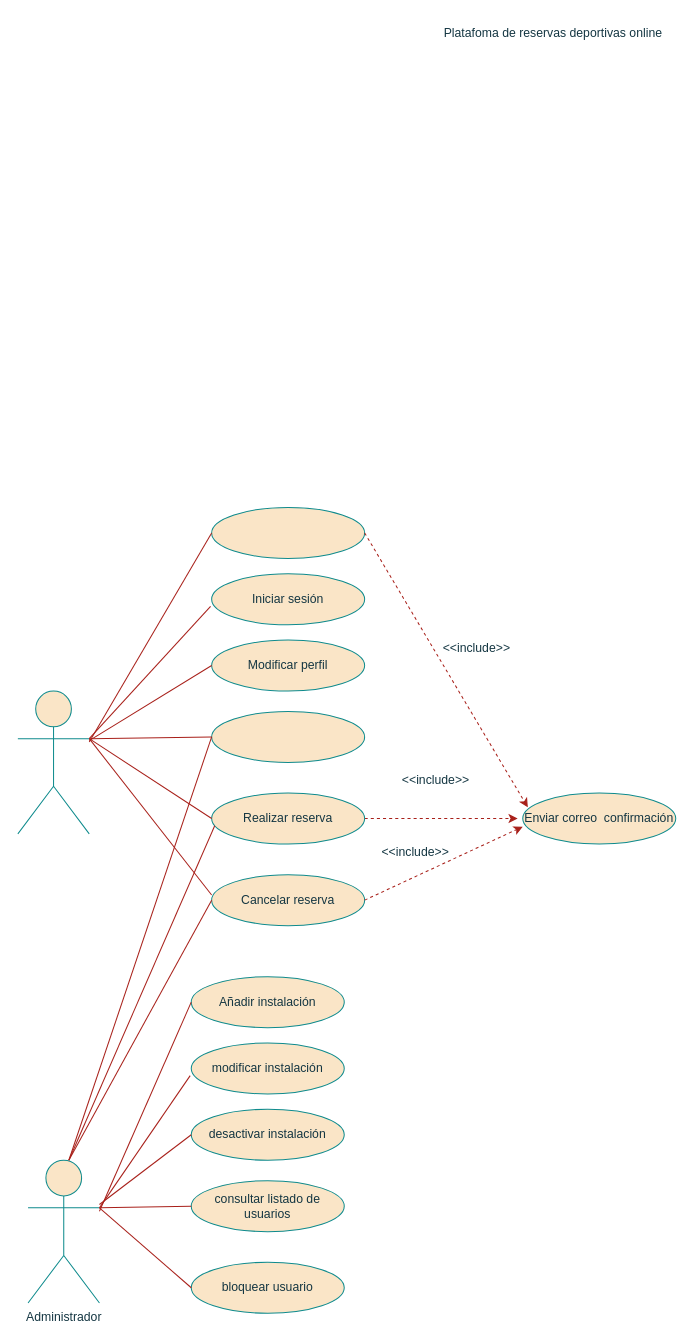
Image size: 694x1341. Some labels were removed from this diagram. The shapes that lost their labels are listed below. From the top down, each one's box as (x1, y1, x2, y2) in pixels, then its label:
(211, 506, 365, 558): Registrarse
(211, 710, 365, 762): Consultar disponibilidad
(17, 690, 89, 834): usuario
